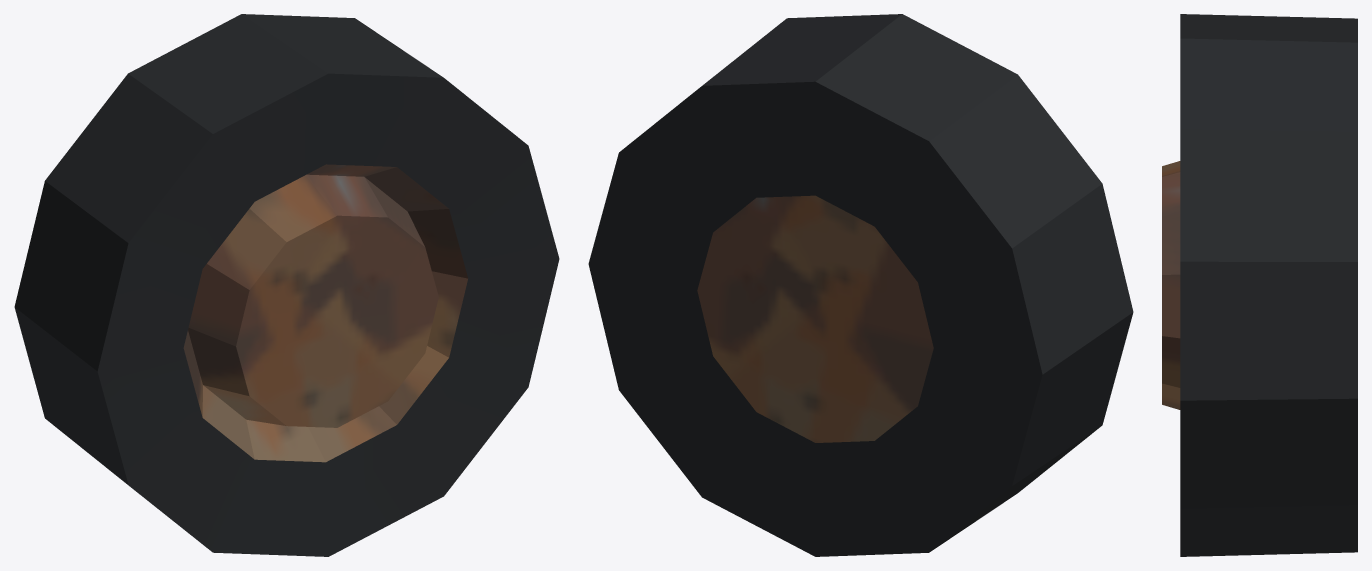
Rendered from SM_Prop_Car_Wrecked_Wheel_05.obj.
The picture shows the model from 3 angles, left to right: view 1: azimuth 30°, elevation 25°; view 2: azimuth 150°, elevation 25°; view 3: azimuth 270°, elevation 25°; orthographic projection. The views are drawn at different scales.
Parts seen in each view (by area): view 1: SM_Prop_Car_Wrecked_Wheel_05_0; view 2: SM_Prop_Car_Wrecked_Wheel_05_0; view 3: SM_Prop_Car_Wrecked_Wheel_05_0.
Part boxes in pixels (x1,y1,x2,y2): SM_Prop_Car_Wrecked_Wheel_05_0: (14, 14, 559, 556); SM_Prop_Car_Wrecked_Wheel_05_0: (588, 14, 1133, 556); SM_Prop_Car_Wrecked_Wheel_05_0: (1162, 14, 1357, 556).
Bounding box in the file's own units: 1.02 × 1.02 × 0.3678.
1 material, 1 textured.
